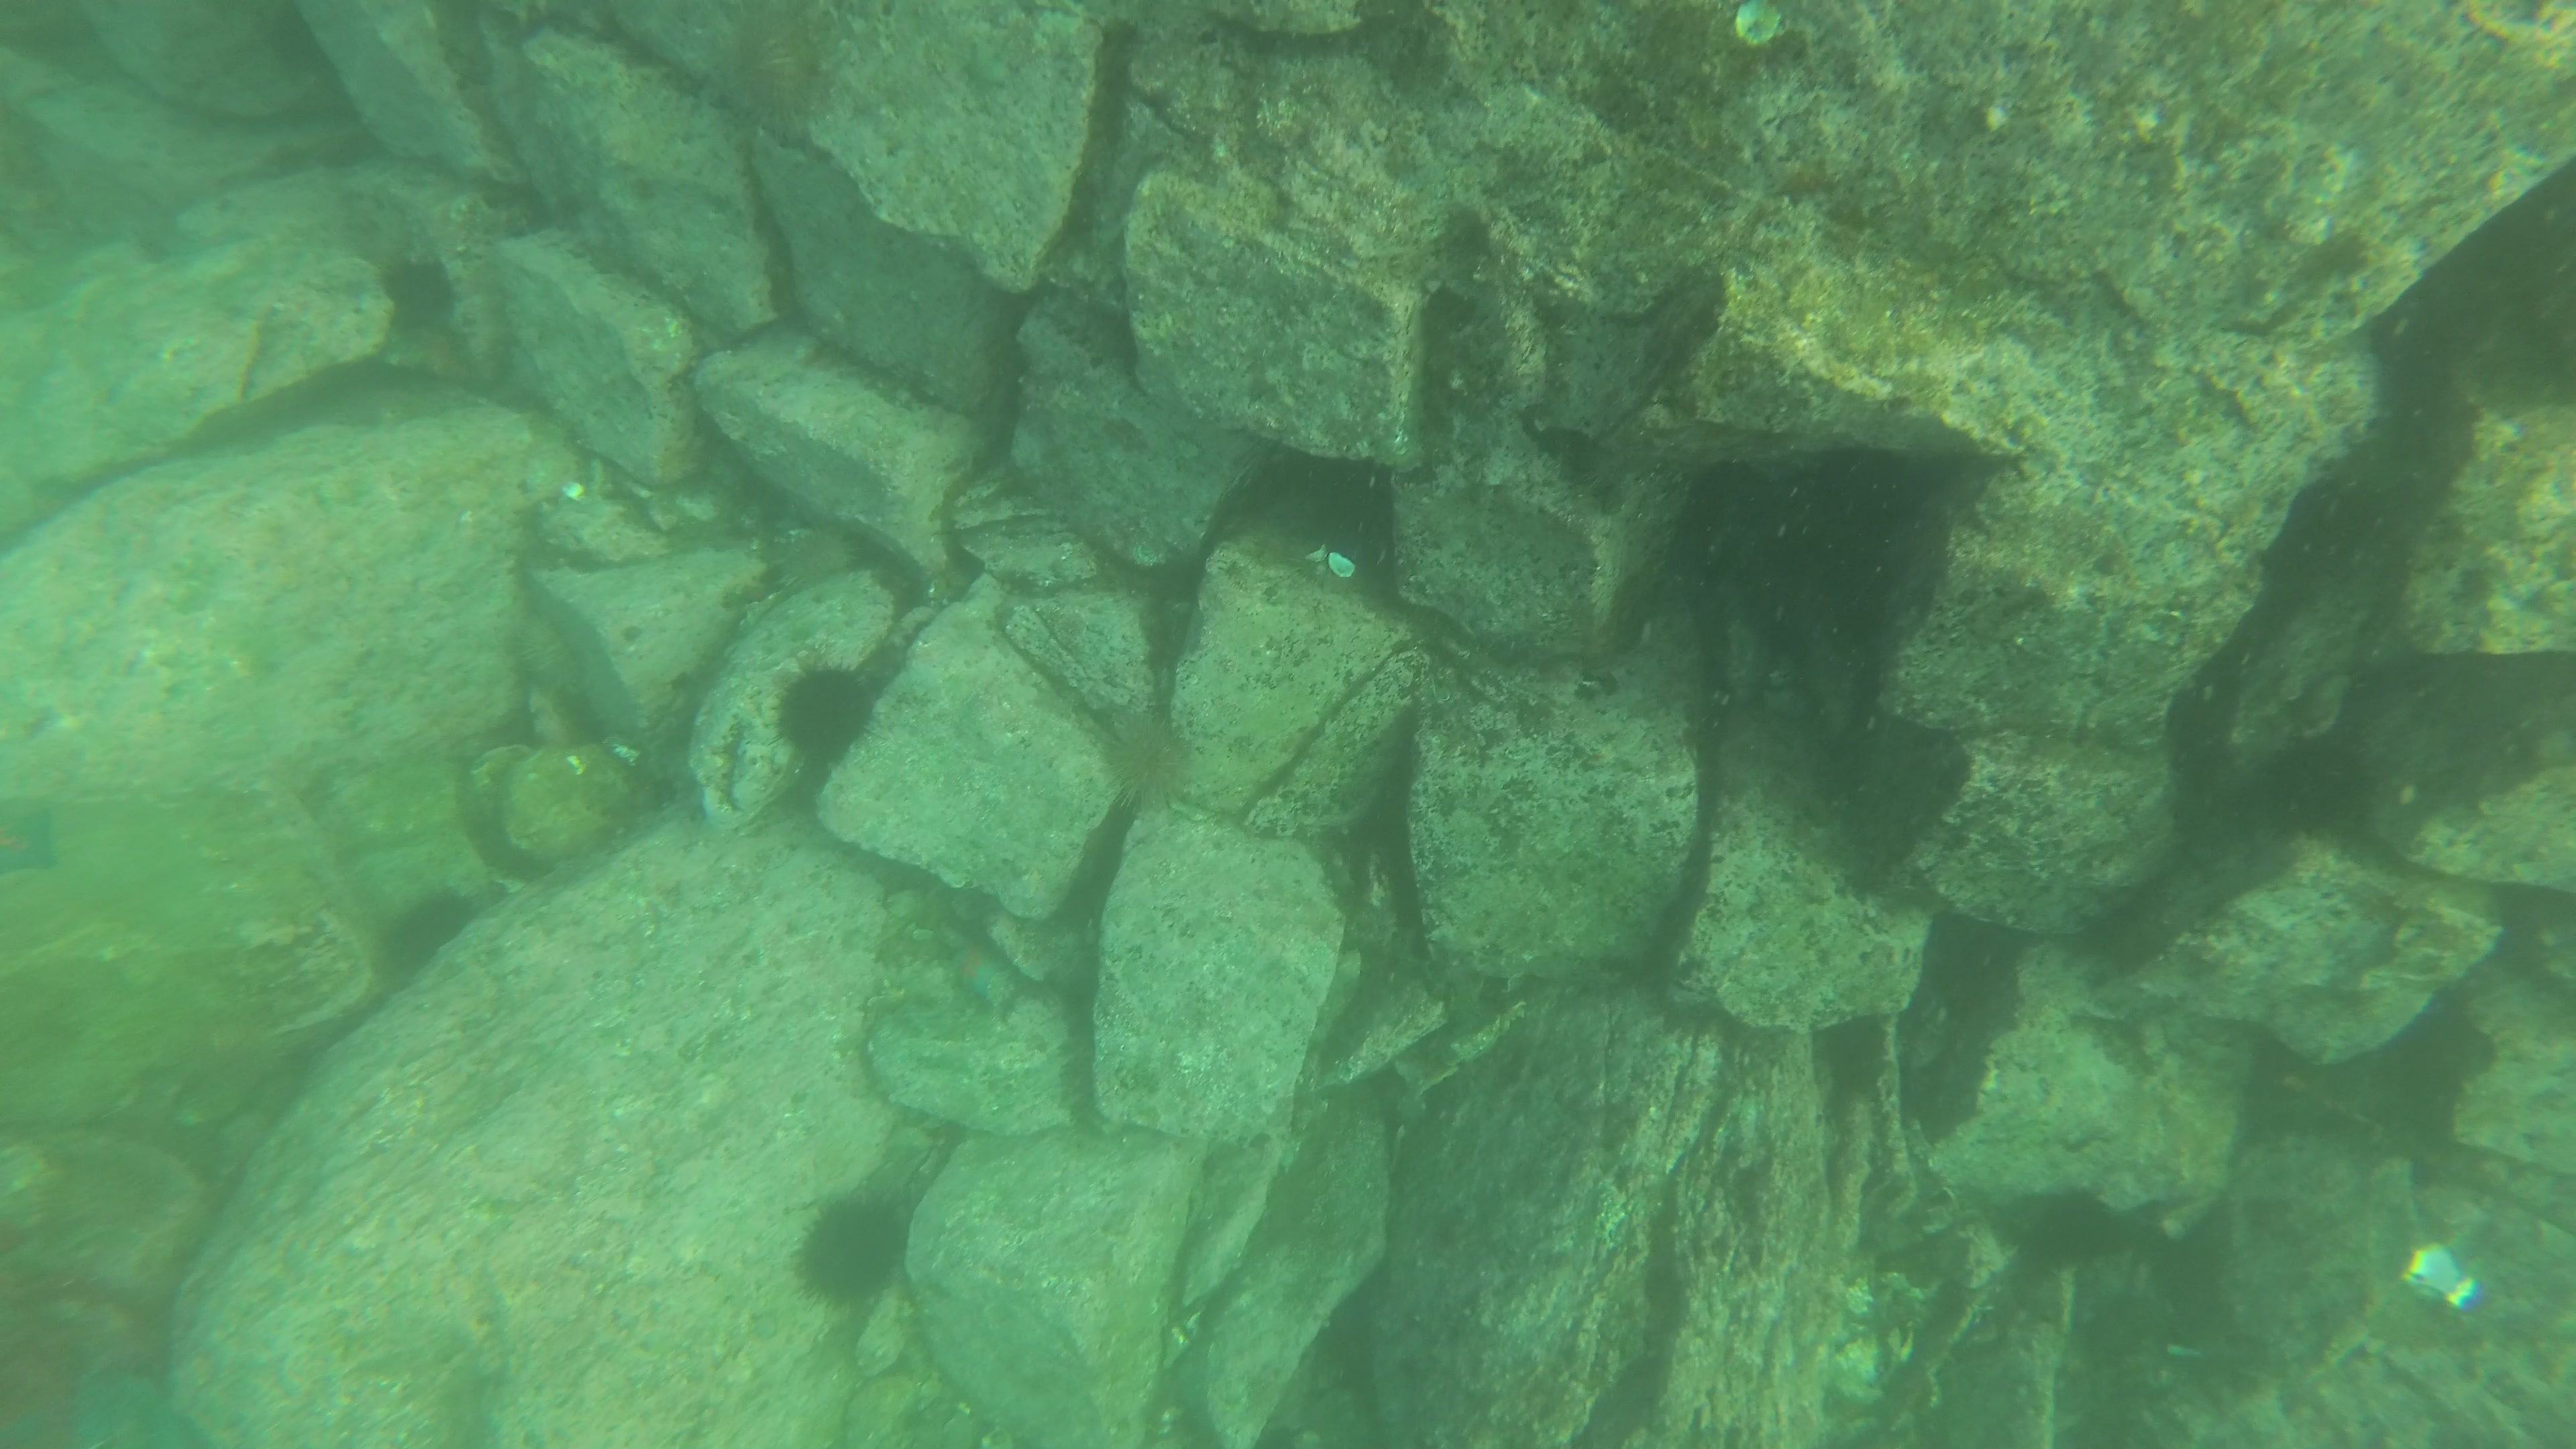echinus: (794, 1177, 918, 1322), (764, 658, 885, 768), (386, 885, 487, 980), (373, 258, 462, 345)
starfish: (0, 800, 64, 879)
